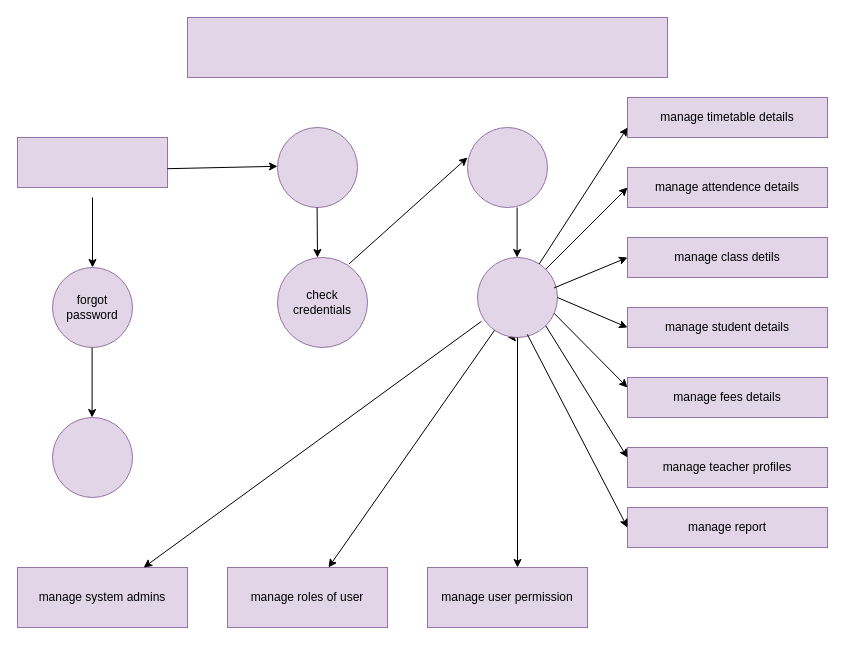
This 845x645 diagram has some shape labels left out. The shapes that lost their labels are listed below. From the top down, each one's centre as x and y in pixels, then its label:
At point 427,47: "Student Information System".
At point 92,162: "Admin".
At point 317,167: "Login to system".
At point 507,167: "check roles of access".
At point 517,297: "manage modules".
At point 92,457: "send mail to user".
